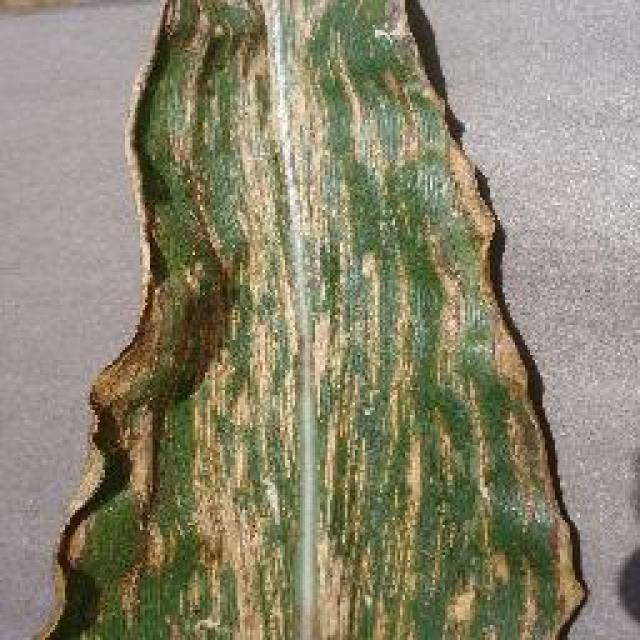Corn___Cercospora_leaf_spot Gray_leaf_spot: (167, 2, 425, 640)
